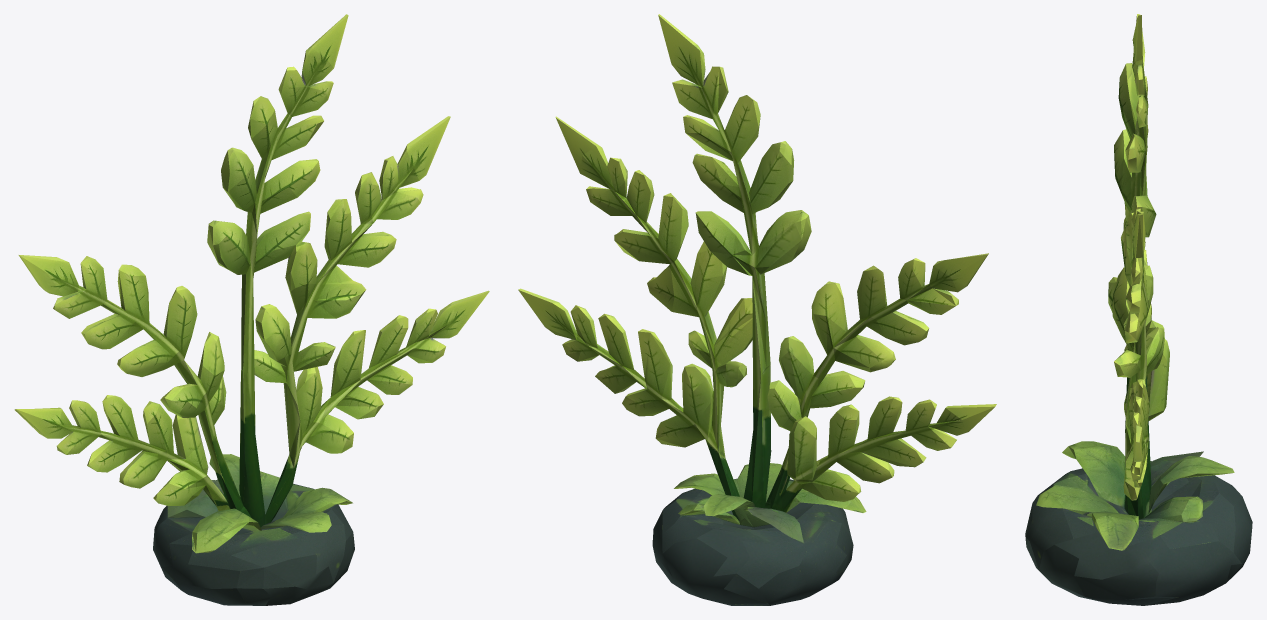
File: fern.glb
3 renders of one model, left to right at view 1: azimuth 30°, elevation 25°; view 2: azimuth 150°, elevation 25°; view 3: azimuth 270°, elevation 25°, orthographic. The views are drawn at different scales.
Bounding box in the file's own units: 1.76 × 1.9 × 0.643.
Materials: 1 (1 with a texture image).
